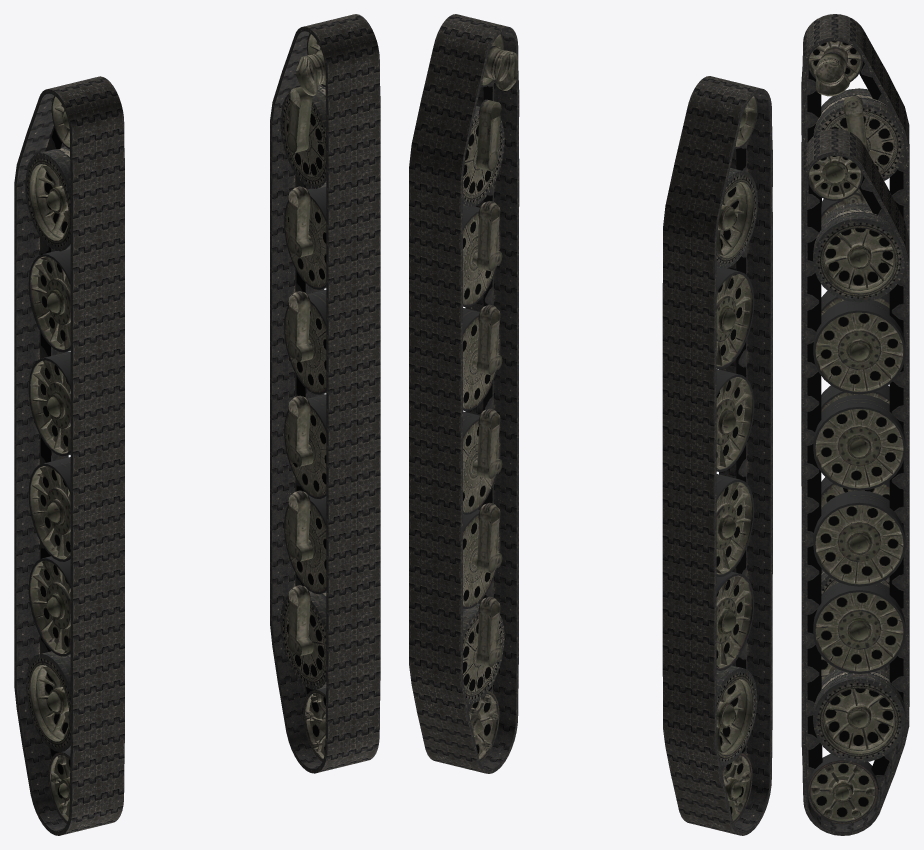
The model's file is Chassis.glb.
3 renders of one model, left to right at view 1: azimuth 30°, elevation 25°; view 2: azimuth 150°, elevation 25°; view 3: azimuth 270°, elevation 25°, orthographic. The views are drawn at different scales.
Parts seen in each view (by area): view 1: set_1_group_0, set_0_group_0, set_3_group_0, set_2_group_0; view 2: set_1_group_0, set_0_group_0, set_3_group_0, set_2_group_0; view 3: set_3_group_0, set_0_group_0, set_2_group_0, set_1_group_0.
Part boxes in pixels (box(x1,y1,x2,y2)): set_1_group_0: box(14, 76, 124, 835); set_0_group_0: box(270, 14, 380, 773); set_3_group_0: box(280, 33, 326, 761); set_2_group_0: box(25, 95, 70, 823); set_1_group_0: box(662, 76, 772, 835); set_0_group_0: box(409, 14, 519, 773); set_3_group_0: box(463, 33, 517, 761); set_2_group_0: box(716, 95, 757, 823); set_3_group_0: box(807, 155, 905, 824); set_0_group_0: box(801, 128, 909, 835); set_2_group_0: box(807, 41, 905, 680); set_1_group_0: box(801, 14, 909, 672).
Size of the model in its own units: 2.95 by 6.83 by 0.9793.
Materials: 4 (4 with a texture image).
